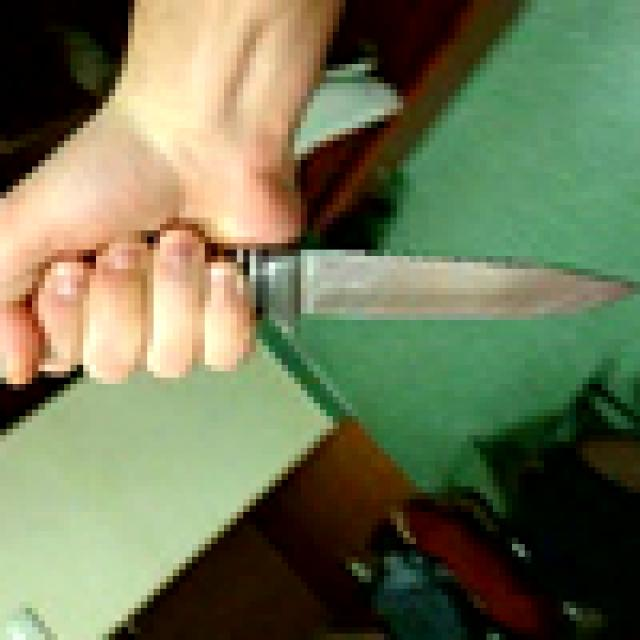Knife: (13, 230, 627, 358)
